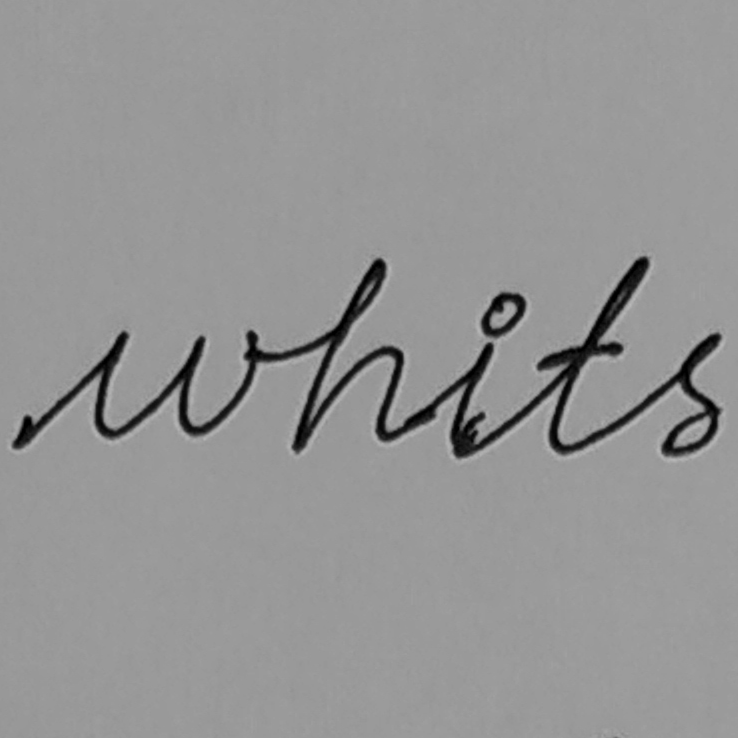h: (287, 252, 407, 458)
i: (442, 287, 529, 460)
s: (657, 328, 726, 461)
t: (533, 252, 652, 457)
w: (89, 323, 259, 445)
